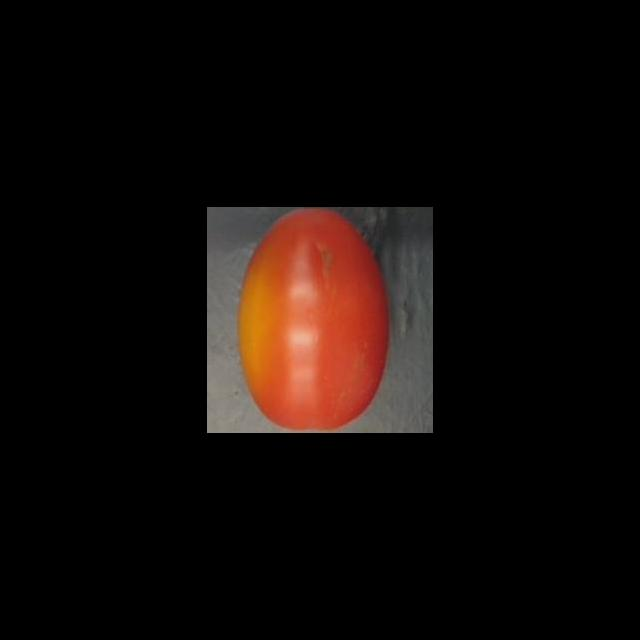tomato: (234, 209, 398, 433)
